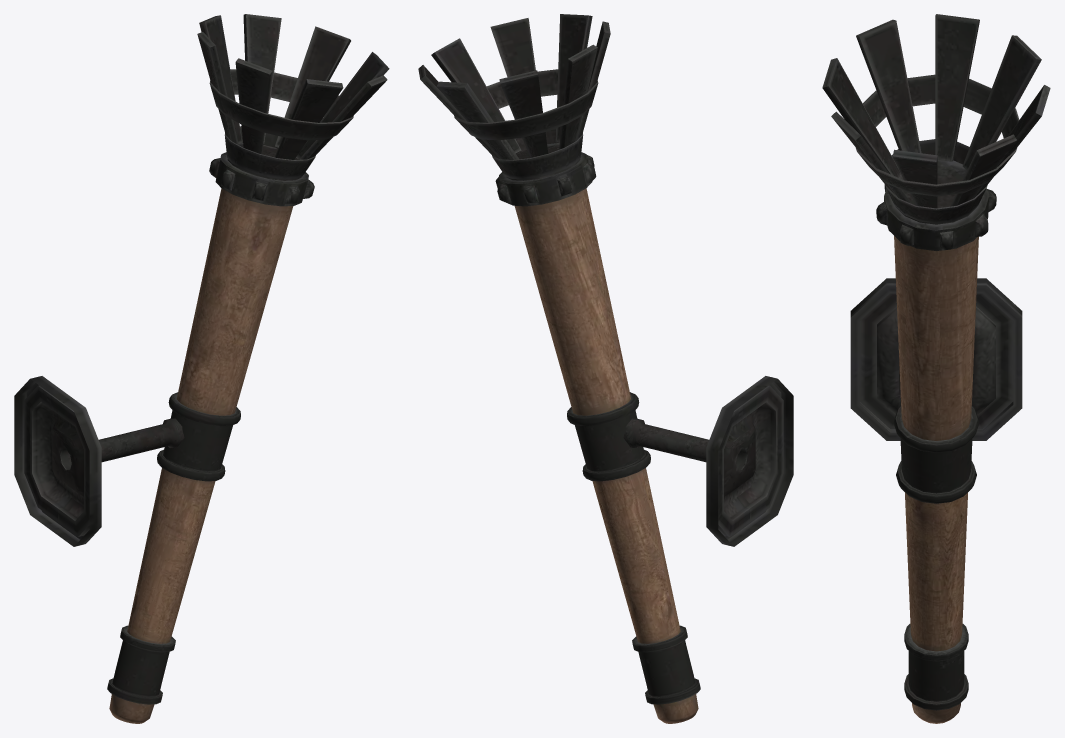
The model's file is torch.glb.
The picture shows the model from 3 angles, left to right: view 1: azimuth 30°, elevation 25°; view 2: azimuth 150°, elevation 25°; view 3: azimuth 270°, elevation 25°; orthographic projection. The views are drawn at different scales.
Visible parts, largest first — view 1: Torch_Wall_Torch_0; view 2: Torch_Wall_Torch_0; view 3: Torch_Wall_Torch_0.
Boxes of the visible parts, x1=… form: Torch_Wall_Torch_0: x1=14, y1=14, x2=389, y2=723; Torch_Wall_Torch_0: x1=418, y1=14, x2=793, y2=723; Torch_Wall_Torch_0: x1=822, y1=14, x2=1050, y2=723.
Bounding box in the file's own units: 30.24 × 58.3 × 16.1.
Materials: 1 (1 with a texture image).
